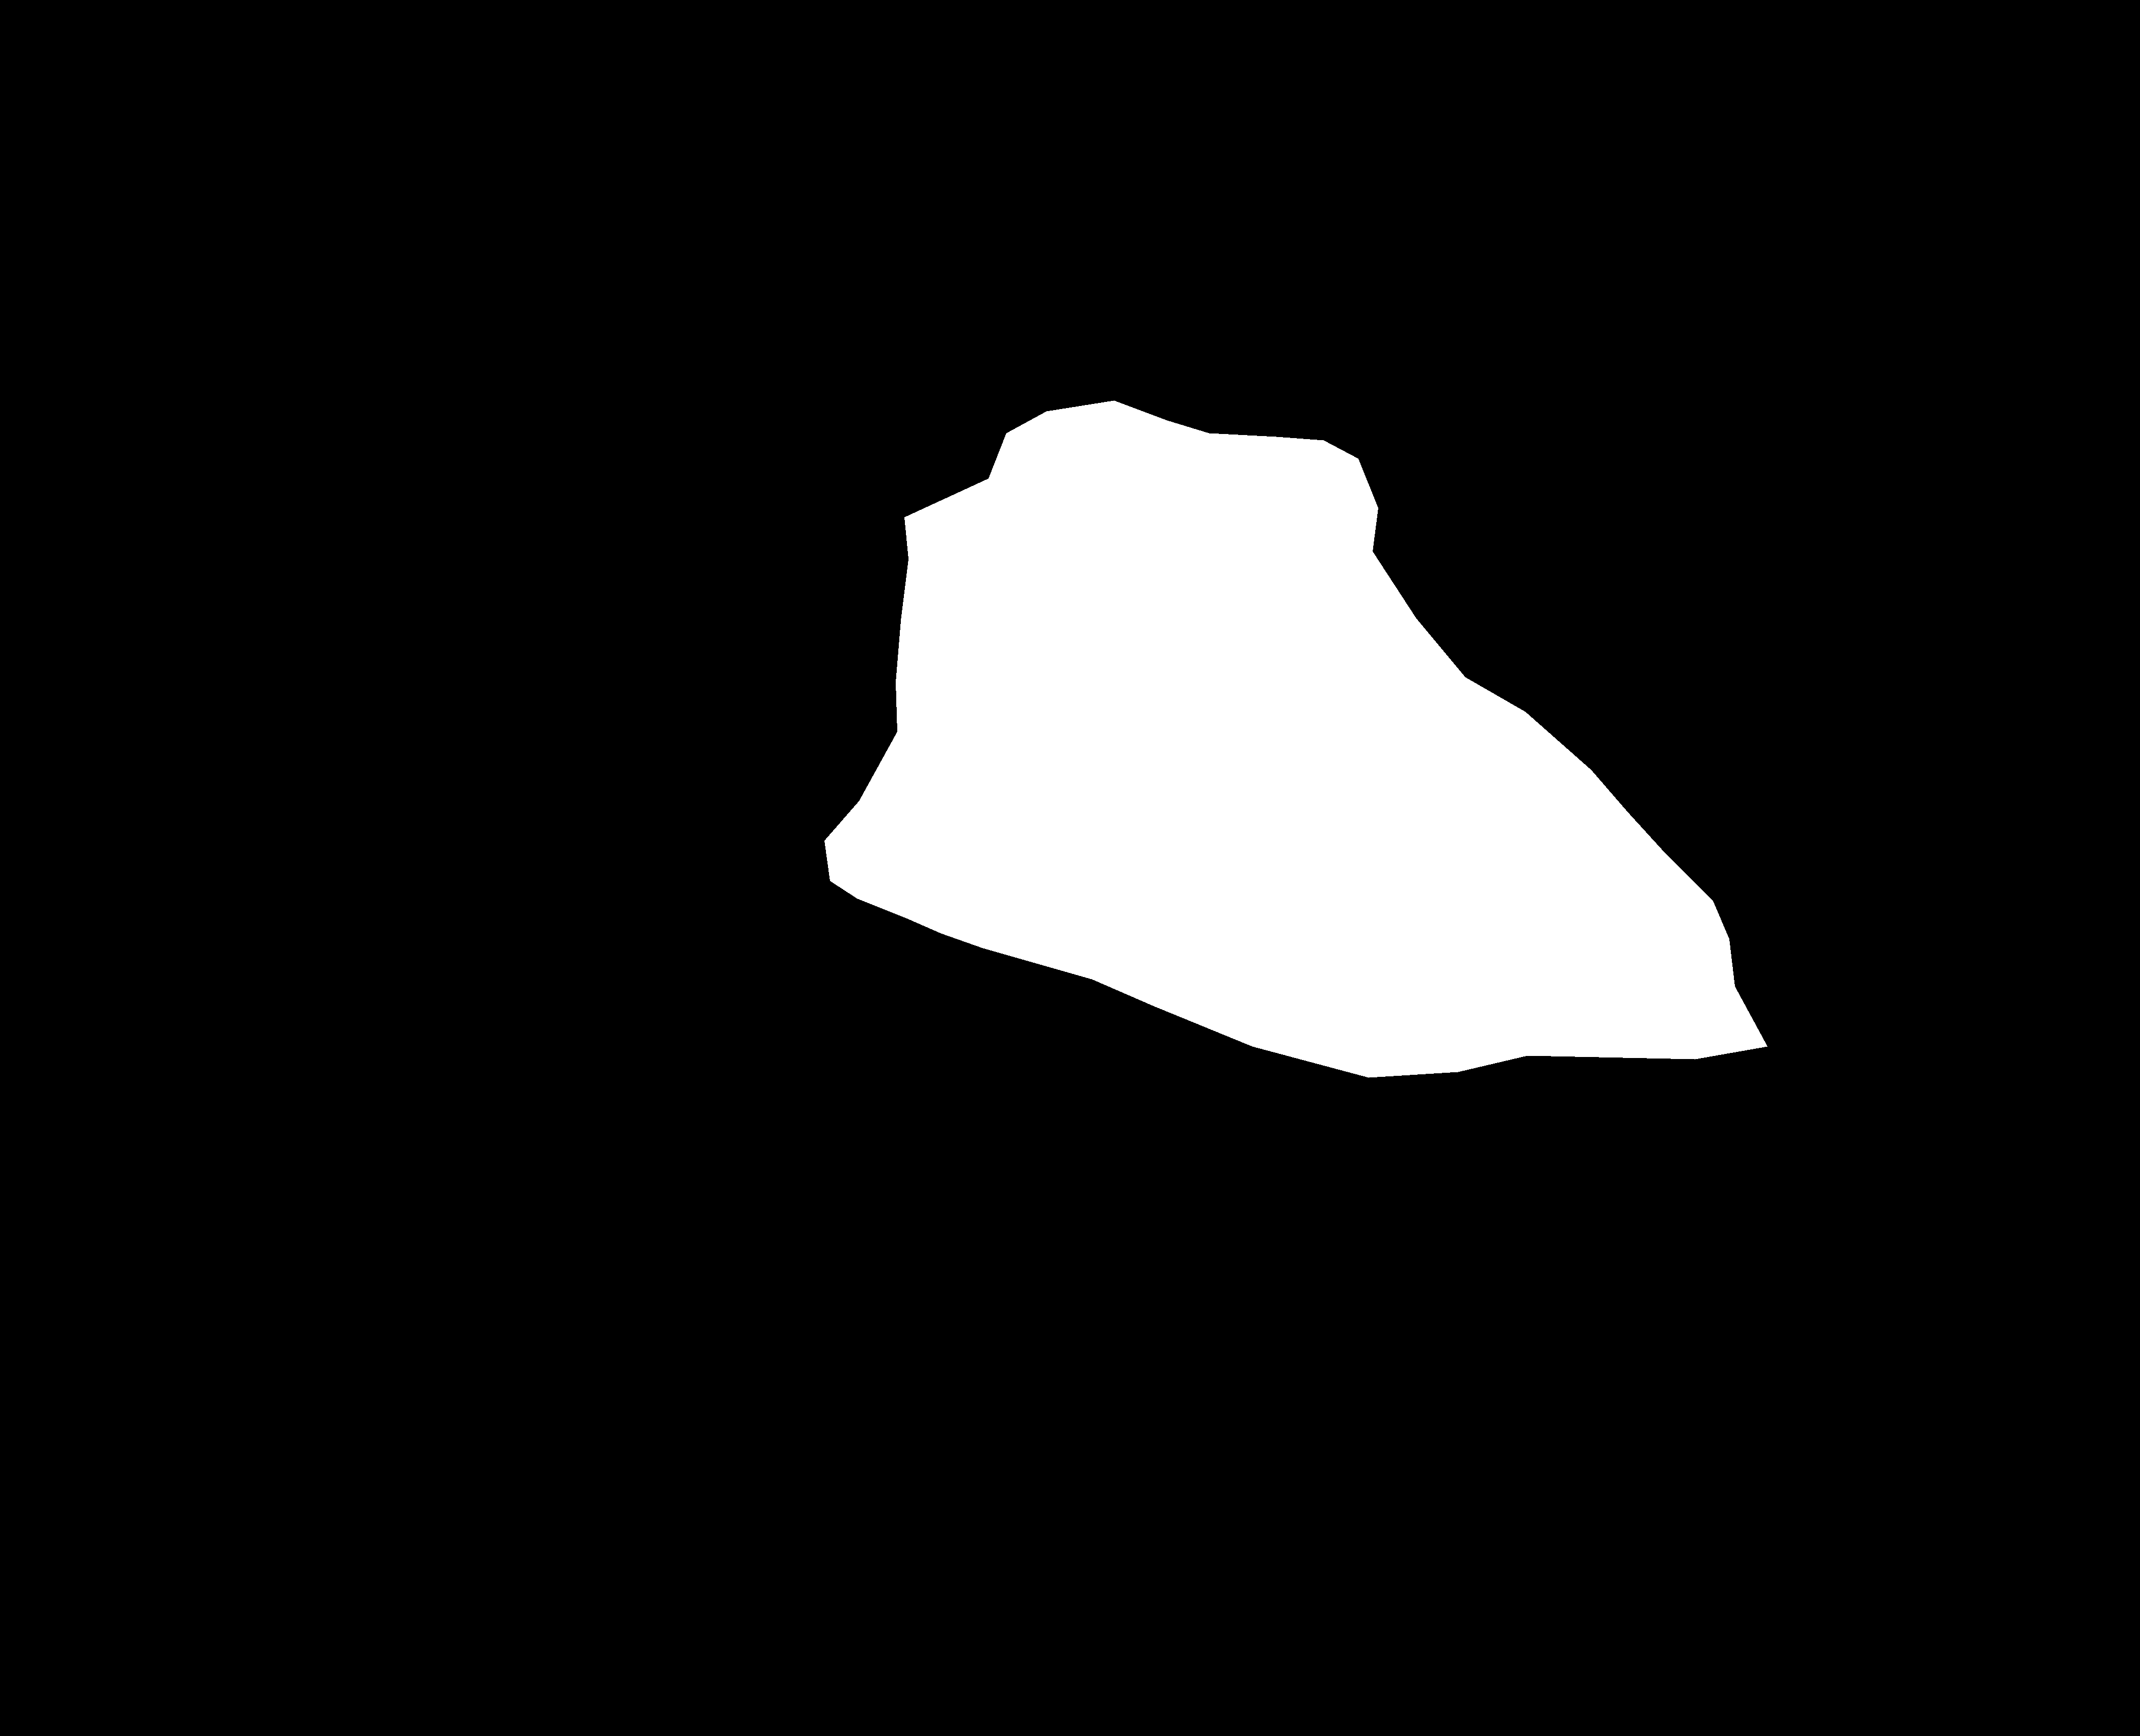heart: (824, 400, 1766, 1077)
left_lung: (301, 25, 1027, 999)
right_lung: (1343, 83, 1881, 1144)
